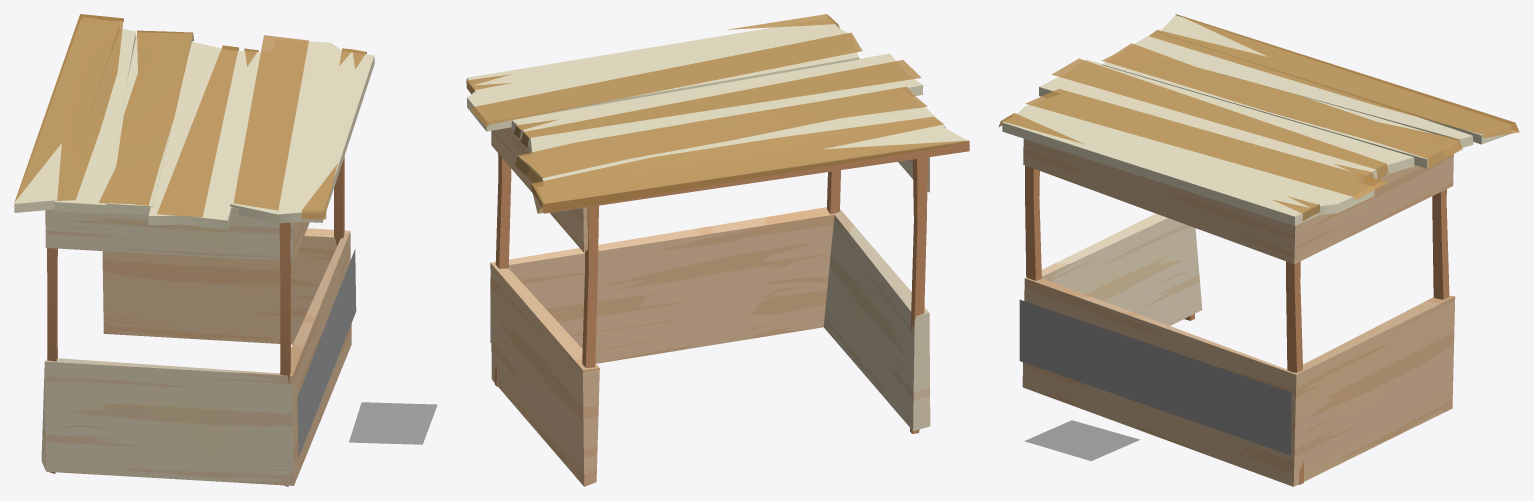
File: boothNew.fbx
The picture shows the model from 3 angles, left to right: view 1: azimuth 30°, elevation 25°; view 2: azimuth 150°, elevation 25°; view 3: azimuth 270°, elevation 25°; orthographic projection. The views are drawn at different scales.
Parts seen in each view (by area): view 1: Booth_OBJ, Roof_OBJ5, Roof_OBJ1, Roof_OBJ6, Roof_OBJ2, Booth_OBJ1, Roof_OBJ7, Roof_OBJ4, Roof_OBJ10, Booth_OBJ3, Roof_OBJ3, Roof_OBJ8 (+6 smaller); view 2: Booth_OBJ, Roof_OBJ5, Roof_OBJ1, Roof_OBJ6, Roof_OBJ4, Roof_OBJ7, Roof_OBJ2, Roof_OBJ10, Roof_OBJ8, Roof_OBJ3, Booth_OBJ1, Leg01_OBJ17 (+4 smaller); view 3: Booth_OBJ, Roof_OBJ5, Booth_OBJ4, Booth_OBJ1, Roof_OBJ1, Roof_OBJ2, Roof_OBJ6, Roof_OBJ7, Roof_OBJ10, Roof_OBJ4, Roof_OBJ8, Roof_OBJ3 (+5 smaller).
Boxes of the visible parts, box(x1,y1,x2,y2) form: Booth_OBJ: box(41, 228, 351, 485); Roof_OBJ5: box(230, 40, 374, 223); Roof_OBJ1: box(148, 41, 271, 229); Roof_OBJ6: box(14, 14, 123, 203); Roof_OBJ2: box(104, 33, 192, 215); Booth_OBJ1: box(45, 207, 309, 261); Roof_OBJ7: box(98, 30, 193, 205); Roof_OBJ4: box(14, 17, 119, 212); Roof_OBJ10: box(233, 35, 308, 210); Booth_OBJ3: box(49, 208, 293, 261); Roof_OBJ3: box(54, 29, 135, 213); Roof_OBJ8: box(157, 45, 238, 217); Booth_OBJ: box(490, 207, 930, 486); Roof_OBJ5: box(466, 19, 858, 131); Roof_OBJ1: box(511, 53, 923, 153); Roof_OBJ6: box(531, 116, 969, 213); Roof_OBJ4: box(537, 125, 969, 213); Roof_OBJ7: box(515, 86, 927, 186); Roof_OBJ2: box(518, 87, 921, 185); Roof_OBJ10: box(470, 32, 862, 126); Roof_OBJ8: box(521, 60, 921, 147); Roof_OBJ3: box(543, 106, 945, 185); Booth_OBJ1: box(491, 58, 929, 252); Leg01_OBJ17: box(910, 157, 927, 433); Booth_OBJ: box(1022, 213, 1455, 486); Roof_OBJ5: box(1002, 93, 1374, 225); Booth_OBJ4: box(1019, 299, 1291, 455); Booth_OBJ1: box(1023, 138, 1453, 264); Roof_OBJ1: box(1039, 59, 1414, 183); Roof_OBJ2: box(1102, 48, 1458, 168); Roof_OBJ6: box(1149, 14, 1519, 137); Roof_OBJ7: box(1102, 43, 1462, 168); Roof_OBJ10: box(1025, 89, 1386, 199); Roof_OBJ4: box(1159, 15, 1511, 144); Roof_OBJ8: box(1051, 58, 1388, 179); Roof_OBJ3: box(1128, 30, 1473, 147).
Size of the model in its own units: 18.1 by 12.03 by 19.54.
